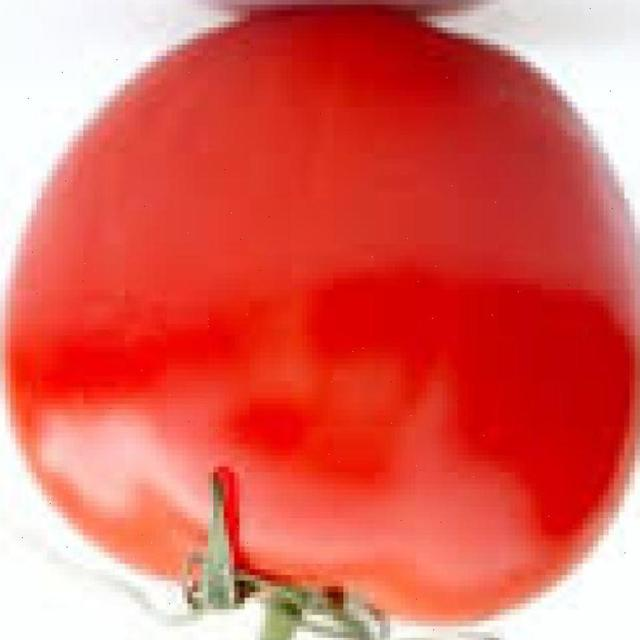Healthy Fruit: (13, 3, 427, 420)
